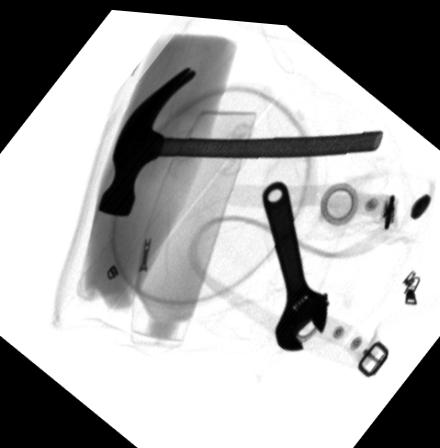Hammer: (96, 60, 382, 213)
Wrench: (261, 176, 328, 346)
